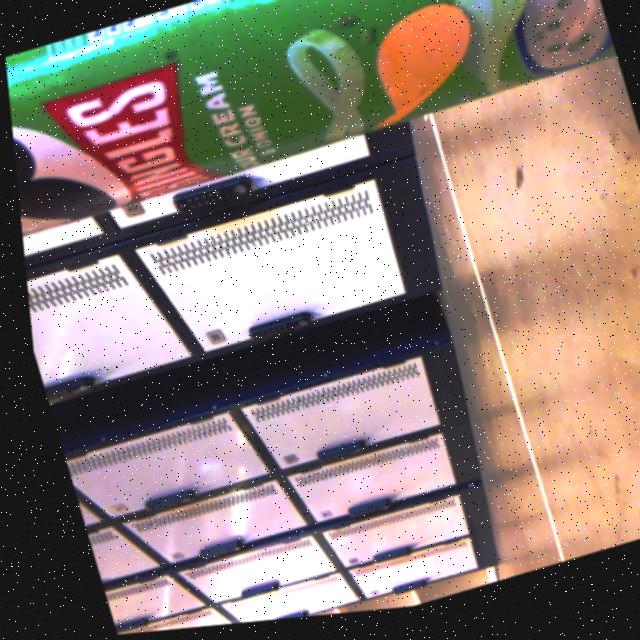greenpringles: (0, 0, 631, 263)
